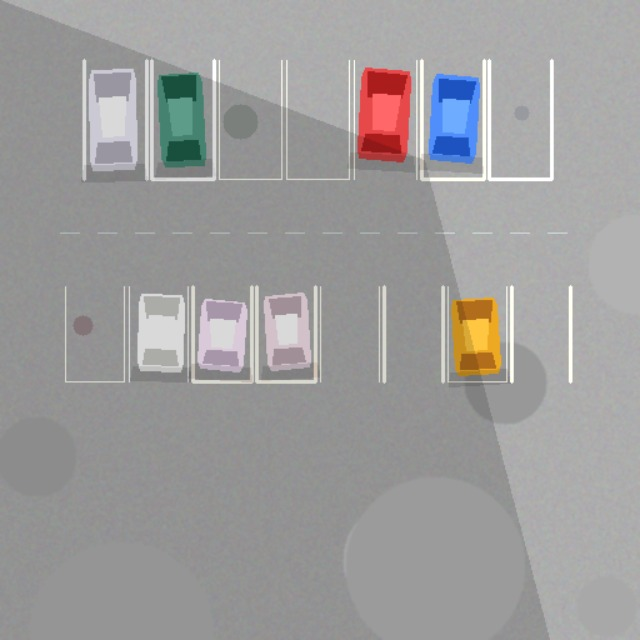space-empty: (286, 60, 349, 179), (219, 60, 281, 179), (489, 60, 551, 179), (65, 286, 124, 381), (320, 286, 379, 381), (384, 286, 443, 381), (511, 286, 570, 381)
space-occupied: (151, 60, 214, 179), (421, 60, 484, 179), (84, 60, 146, 179), (354, 60, 416, 179), (256, 286, 315, 381), (447, 286, 506, 381), (129, 286, 187, 381), (193, 286, 251, 381)
